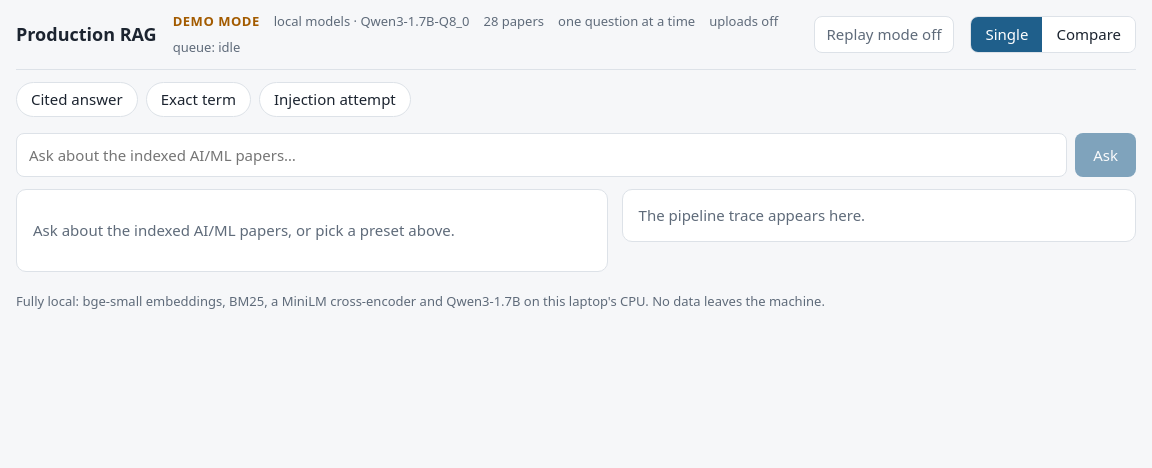
Test: the demo UI › labels cached and replayed results, never as live
expect the text "DEMO MODE" is shown: met, box 173,12 -> 260,32
In the field named "Question": (542, 155) 16,132 -> 1067,177, type "How many datasets does BEIR include?"
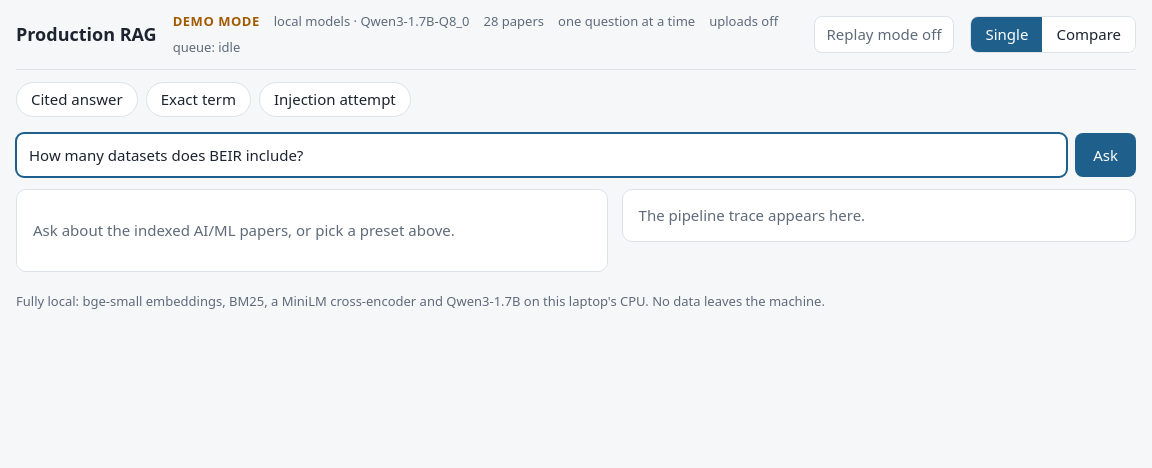
Click the button "Ask": (1106, 155) 1075,132 -> 1136,177
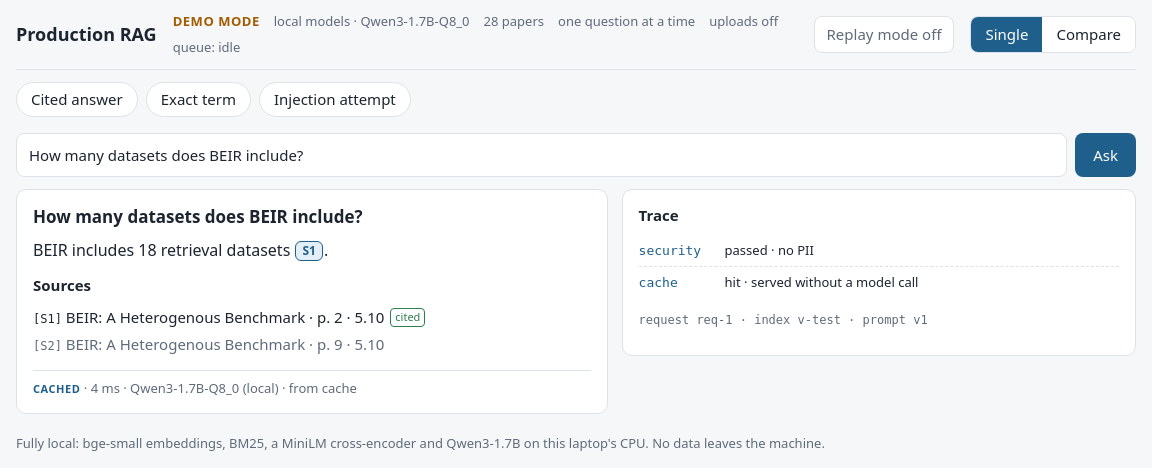
expect the element with test id "status-line" shows "cached · 4 ms": met, box 33,370 -> 591,398
Click the button "Ask": (1106, 155) 1075,132 -> 1136,177
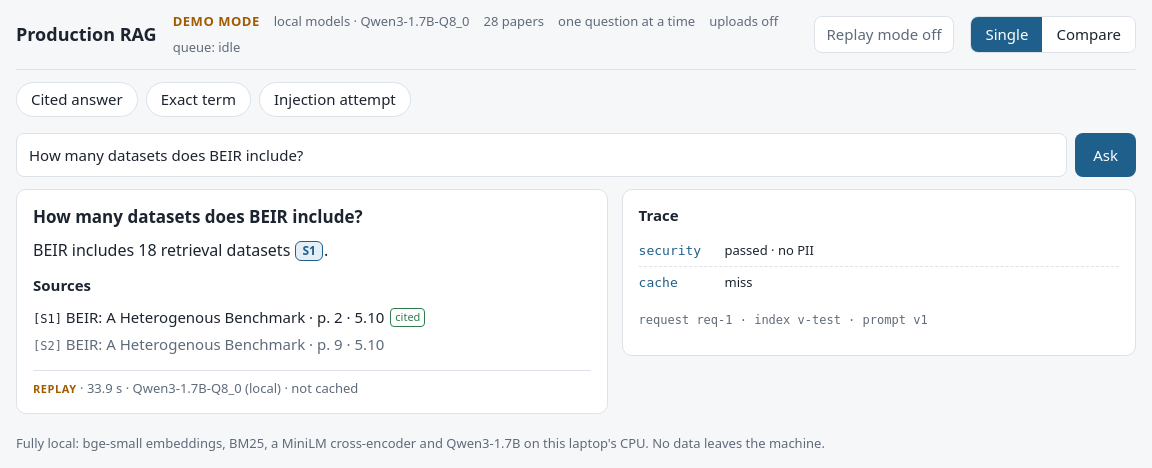
expect the element with test id "status-line" shows "replay": met, box 33,381 -> 77,396
